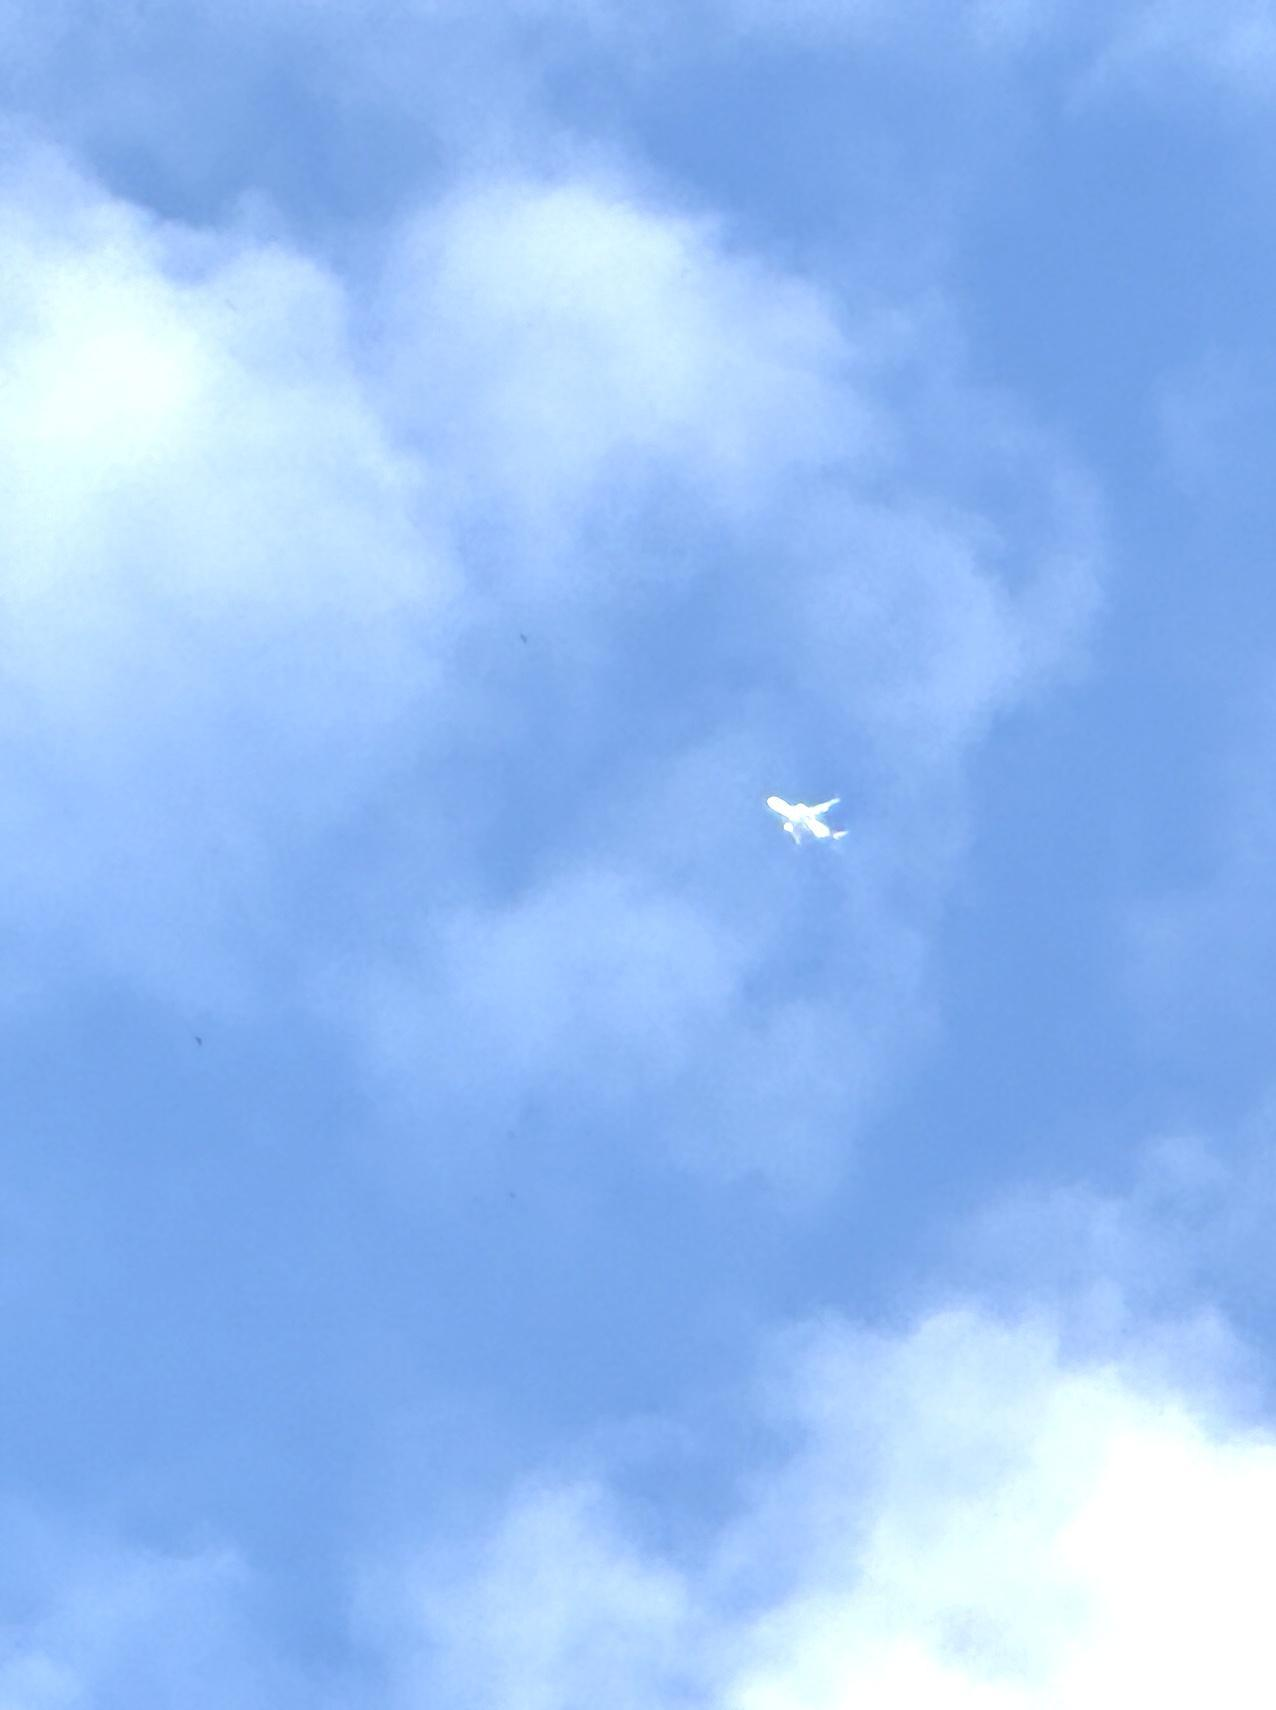Plane: (743, 748, 879, 886)
